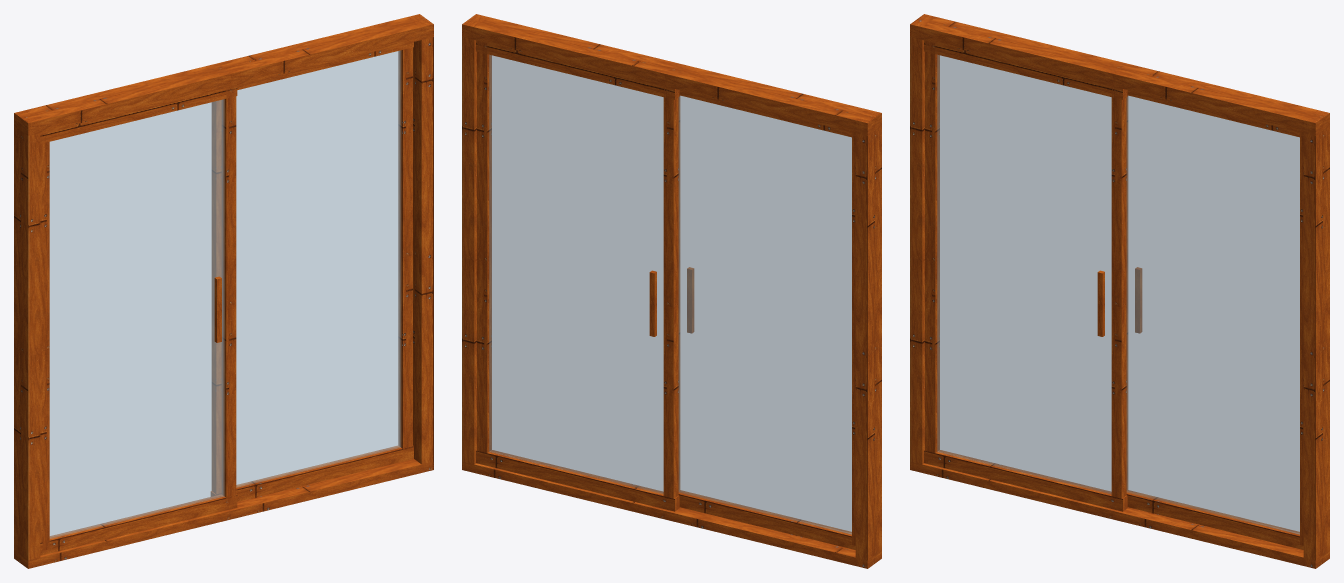
Rendered from Door_SlidingGlass.fbx.
3 renders of one model, left to right at view 1: azimuth 30°, elevation 25°; view 2: azimuth 150°, elevation 25°; view 3: azimuth 330°, elevation 25°, orthographic.
Visible parts, largest first — view 1: Door_SlidingGlass; view 2: Door_SlidingGlass; view 3: Door_SlidingGlass.
Boxes of the visible parts, <box> form: Door_SlidingGlass: <box>14,14,433,568</box>; Door_SlidingGlass: <box>462,14,881,568</box>; Door_SlidingGlass: <box>910,14,1329,568</box>.
Bounding box in the file's own units: 2 × 2.1 × 0.13.
